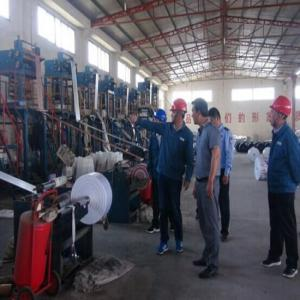blue: (154, 108, 168, 129)
none: (192, 99, 209, 128), (209, 107, 222, 130)
red: (269, 97, 292, 130), (172, 100, 188, 126)
